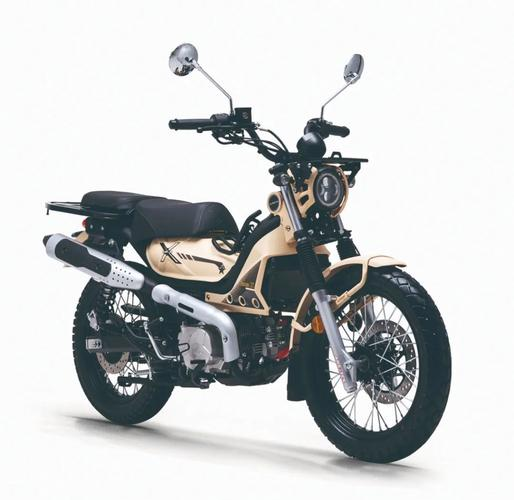摩托车: (20, 26, 479, 474)
